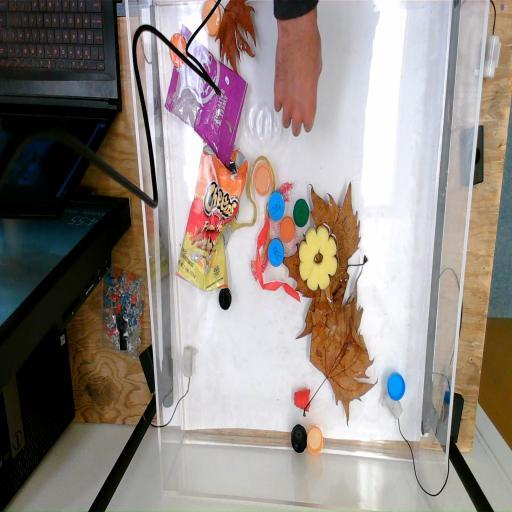Bottle Cap: (200, 0, 224, 38), (252, 164, 275, 196), (386, 370, 406, 406), (266, 236, 286, 272), (168, 30, 189, 64), (294, 194, 311, 228), (267, 194, 288, 220), (290, 422, 308, 452), (306, 426, 324, 456), (278, 217, 297, 245), (218, 288, 236, 310)
Cone Cap: (293, 382, 313, 414)
Leaf: (298, 294, 382, 434), (285, 184, 370, 310), (214, 0, 264, 75)
Netting: (280, 178, 294, 200)
Plastic Bag: (165, 22, 248, 165), (176, 142, 251, 296)
Plastic Strand: (254, 220, 304, 305), (230, 153, 278, 237)
Sponge: (296, 226, 338, 292)
